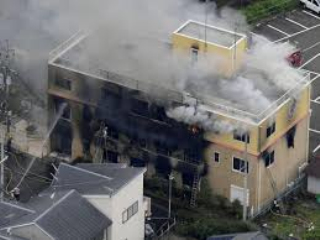smoke: (220, 44, 315, 114), (159, 100, 234, 135)
